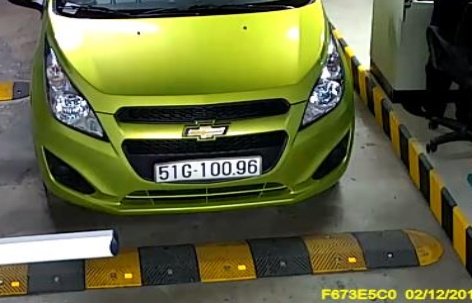plate: (155, 159, 260, 180)
